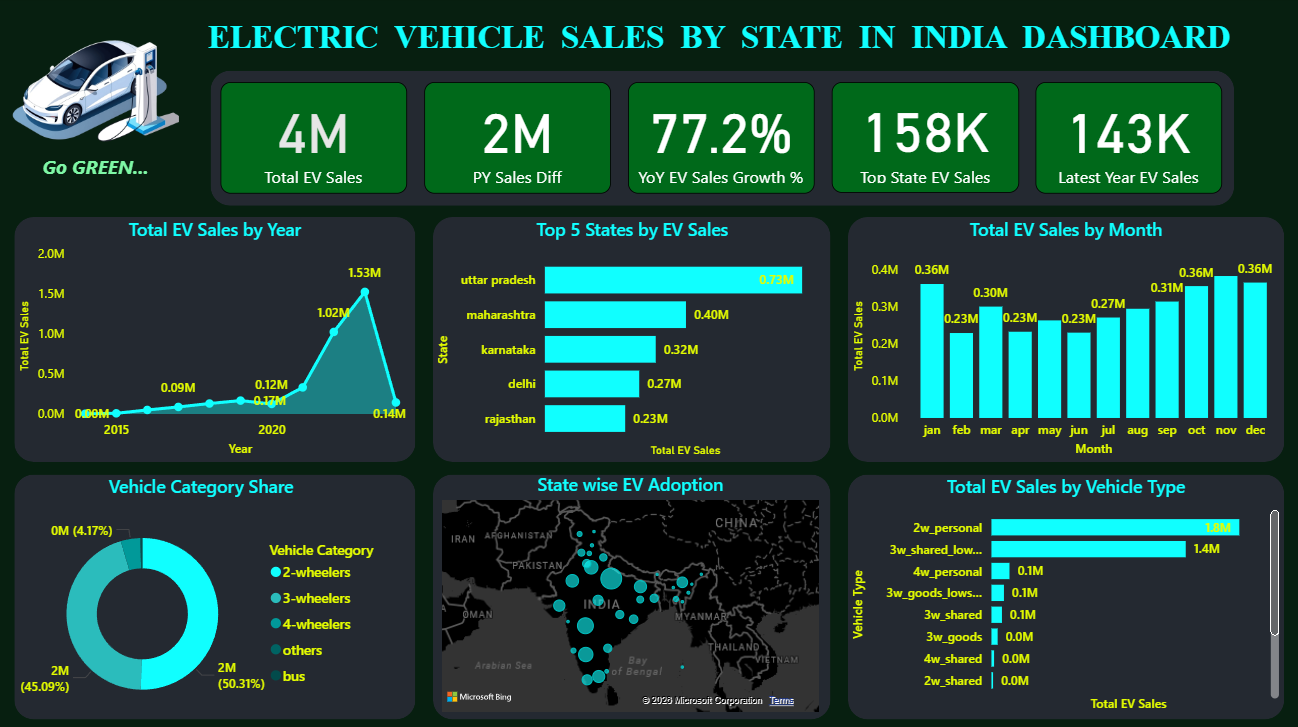

This screenshot's page, from the dashboard's own definition file:
{"tool":"powerbi","page":{"name":"Page 1","canvas":[1280,720],"ordinal":0},"visuals":[{"type":"shape","box":[208.6,72.4,1004.9,132.5],"z":0},{"type":"card","fields":{"Values":["electric_vehicle_sales_in_india_cleaned.Total EV Sales"]},"box":[218.4,83.4,182.8,109.2],"z":1000},{"type":"card","fields":{"Values":["electric_vehicle_sales_in_india_cleaned.YoY EV Sales Growth %"]},"box":[618.4,83.4,182.8,109.2],"z":2000},{"type":"card","fields":{"Values":["electric_vehicle_sales_in_india_cleaned.Sales Difference"]},"box":[418.4,83.4,182.8,109.2],"z":3000},{"type":"card","fields":{"Values":["electric_vehicle_sales_in_india_cleaned.Top State EV Sales"]},"box":[817.8,83.7,183.9,108.4],"z":4000},{"type":"image","box":[0,0,182.8,180.4],"z":5000},{"type":"textbox","box":[27,148.5,137.4,35.6],"z":6000},{"type":"textbox","box":[196.3,16,1023.3,49.1],"z":7000},{"type":"card","fields":{"Values":["electric_vehicle_sales_in_india_cleaned.Latest Year EV Sales"]},"box":[1018.4,83.4,182.8,109.2],"z":8000},{"type":"shape","box":[16,216,393.9,240.5],"z":9000},{"type":"shape","box":[16,468.7,393.9,240.5],"z":10000},{"type":"shape","box":[427,216,390.2,240.5],"z":11000},{"type":"shape","box":[834.4,216,428.2,240.5],"z":12000},{"type":"lineChart","title":"Total EV Sales by Year","fields":{"Category":["electric_vehicle_sales_in_india_cleaned.year"],"Y":["electric_vehicle_sales_in_india_cleaned.Total EV Sales"]},"box":[16,216,393.9,240.5],"z":13000},{"type":"clusteredBarChart","title":"Top 5 States by EV Sales","fields":{"Category":["electric_vehicle_sales_in_india_cleaned.state"],"Y":["electric_vehicle_sales_in_india_cleaned.Total EV Sales"]},"box":[427,216,391.4,240.5],"z":14000},{"type":"clusteredColumnChart","title":"Total EV Sales by Month","fields":{"Category":["electric_vehicle_sales_in_india_cleaned.month_name"],"Y":["electric_vehicle_sales_in_india_cleaned.Total EV Sales"]},"box":[834.4,216,428.2,240.5],"z":15000},{"type":"donutChart","title":"Vehicle Category Share","fields":{"Y":["electric_vehicle_sales_in_india_cleaned.Total EV Sales"],"Category":["electric_vehicle_sales_in_india_cleaned.vehicle_category"]},"box":[12.3,468.7,374.2,251.5],"z":16000},{"type":"shape","box":[427,468.7,390.2,240.5],"z":17000},{"type":"shape","box":[834.4,468.7,428.2,240.5],"z":18000},{"type":"map","title":"State wise EV Adoption","fields":{"Category":["electric_vehicle_sales_in_india_cleaned.state"],"Size":["electric_vehicle_sales_in_india_cleaned.Total EV Sales"]},"box":[430.7,466.3,380.4,240.5],"z":19000},{"type":"clusteredBarChart","title":"Total EV Sales by Vehicle Type","fields":{"Category":["electric_vehicle_sales_in_india_cleaned.vehicle_type"],"Y":["electric_vehicle_sales_in_india_cleaned.Total EV Sales"]},"box":[834.4,468.7,428.2,238],"z":19001}]}

Visuals, with their boxes in screenshot pixels (x1, y1, x2, y2), scaled from the page's 1280x720 canvas onto the 1298x727 screenshot:
shape: 212:73:1231:207
card - electric_vehicle_sales_in_india_cleaned.Total EV Sales: 221:84:407:194
card - electric_vehicle_sales_in_india_cleaned.YoY EV Sales Growth %: 627:84:812:194
card - electric_vehicle_sales_in_india_cleaned.Sales Difference: 424:84:610:194
card - electric_vehicle_sales_in_india_cleaned.Top State EV Sales: 829:85:1016:194
image: 0:0:185:182
textbox: 27:150:167:186
textbox: 199:16:1237:66
card - electric_vehicle_sales_in_india_cleaned.Latest Year EV Sales: 1033:84:1218:194
shape: 16:218:416:461
shape: 16:473:416:716
shape: 433:218:829:461
shape: 846:218:1280:461
"Total EV Sales by Year" lineChart: 16:218:416:461
"Top 5 States by EV Sales" clusteredBarChart: 433:218:830:461
"Total EV Sales by Month" clusteredColumnChart: 846:218:1280:461
"Vehicle Category Share" donutChart: 12:473:392:726
shape: 433:473:829:716
shape: 846:473:1280:716
"State wise EV Adoption" map: 437:471:823:714
"Total EV Sales by Vehicle Type" clusteredBarChart: 846:473:1280:714
